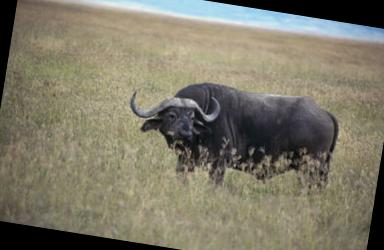Buffalo: (108, 61, 358, 234)
